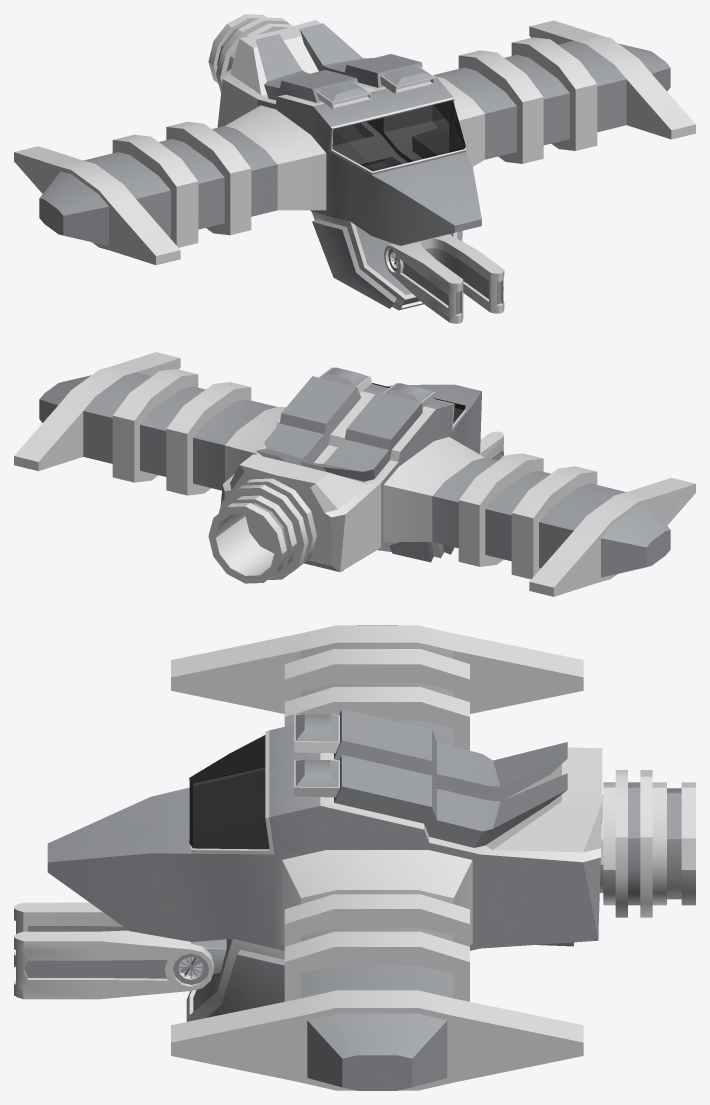
Rendered from CAD.fbx.
The picture shows the model from 3 angles, top to bottom: view 1: azimuth 30°, elevation 25°; view 2: azimuth 150°, elevation 25°; view 3: azimuth 270°, elevation 25°; orthographic projection. The views are drawn at different scales.
Visible parts, largest first — view 1: CAD; view 2: CAD; view 3: CAD.
Boxes of the visible parts, x1,y1,x2,y2 form: CAD: (14, 14, 695, 323); CAD: (14, 352, 695, 596); CAD: (14, 625, 695, 1090).
Size of the model in its own units: 8.9 by 2.8 by 5.96.
